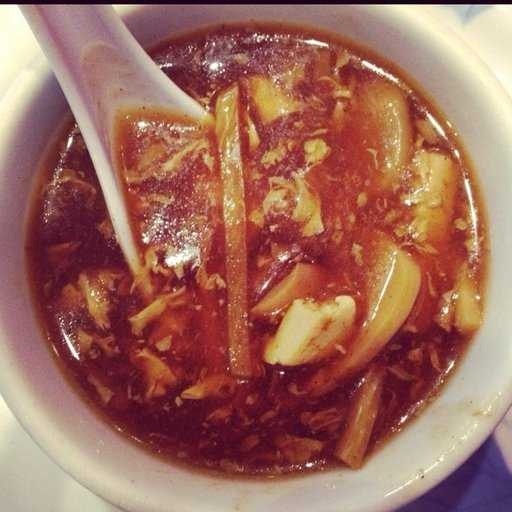soup: (31, 54, 499, 487)
